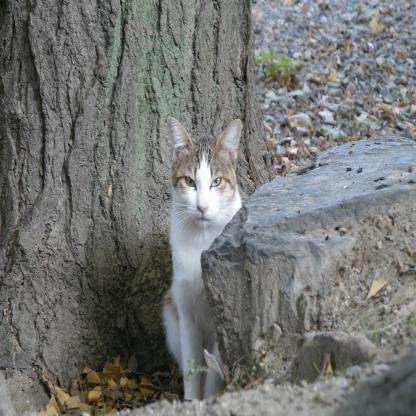cat: (155, 109, 243, 389)
